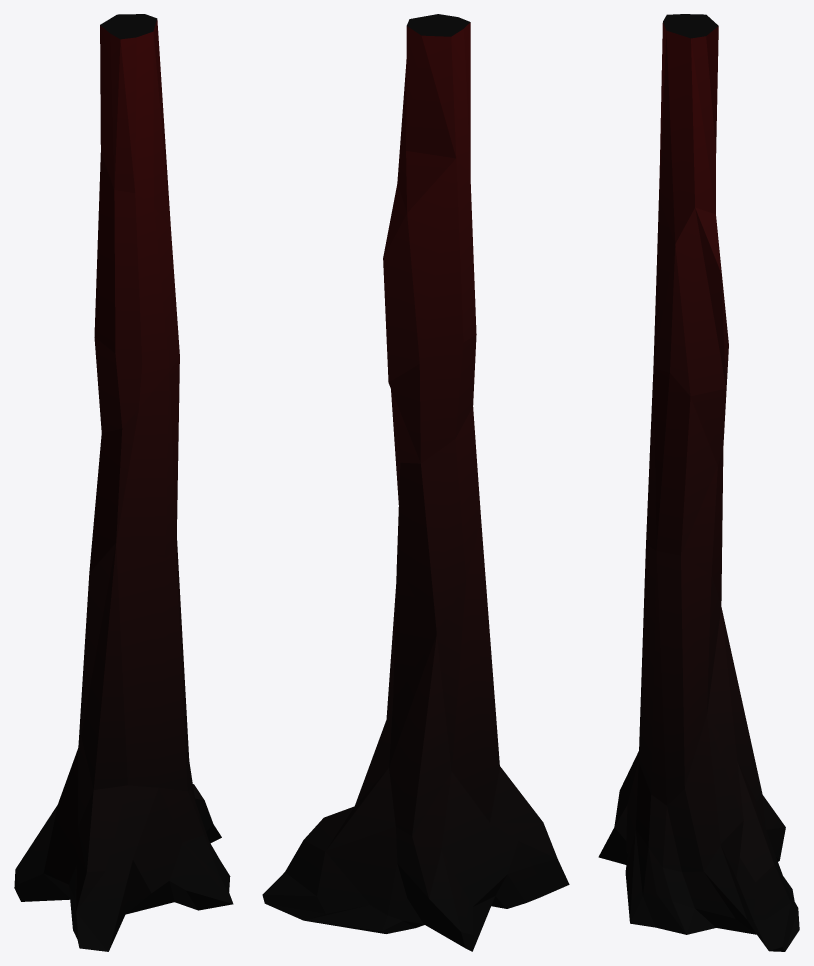
Rendered from SM_Env_Tree_Medium_02_Collision.fbx.
3 renders of one model, left to right at view 1: azimuth 30°, elevation 25°; view 2: azimuth 150°, elevation 25°; view 3: azimuth 270°, elevation 25°, orthographic.
Parts seen in each view (by area): view 1: SM_Env_Tree_Medium_02_Collision; view 2: SM_Env_Tree_Medium_02_Collision; view 3: SM_Env_Tree_Medium_02_Collision.
Boxes of the visible parts, <box> form: SM_Env_Tree_Medium_02_Collision: <box>14,14,233,951</box>; SM_Env_Tree_Medium_02_Collision: <box>262,14,569,951</box>; SM_Env_Tree_Medium_02_Collision: <box>598,14,799,951</box>.
Size of the model in its own units: 279 by 1058 by 221.
